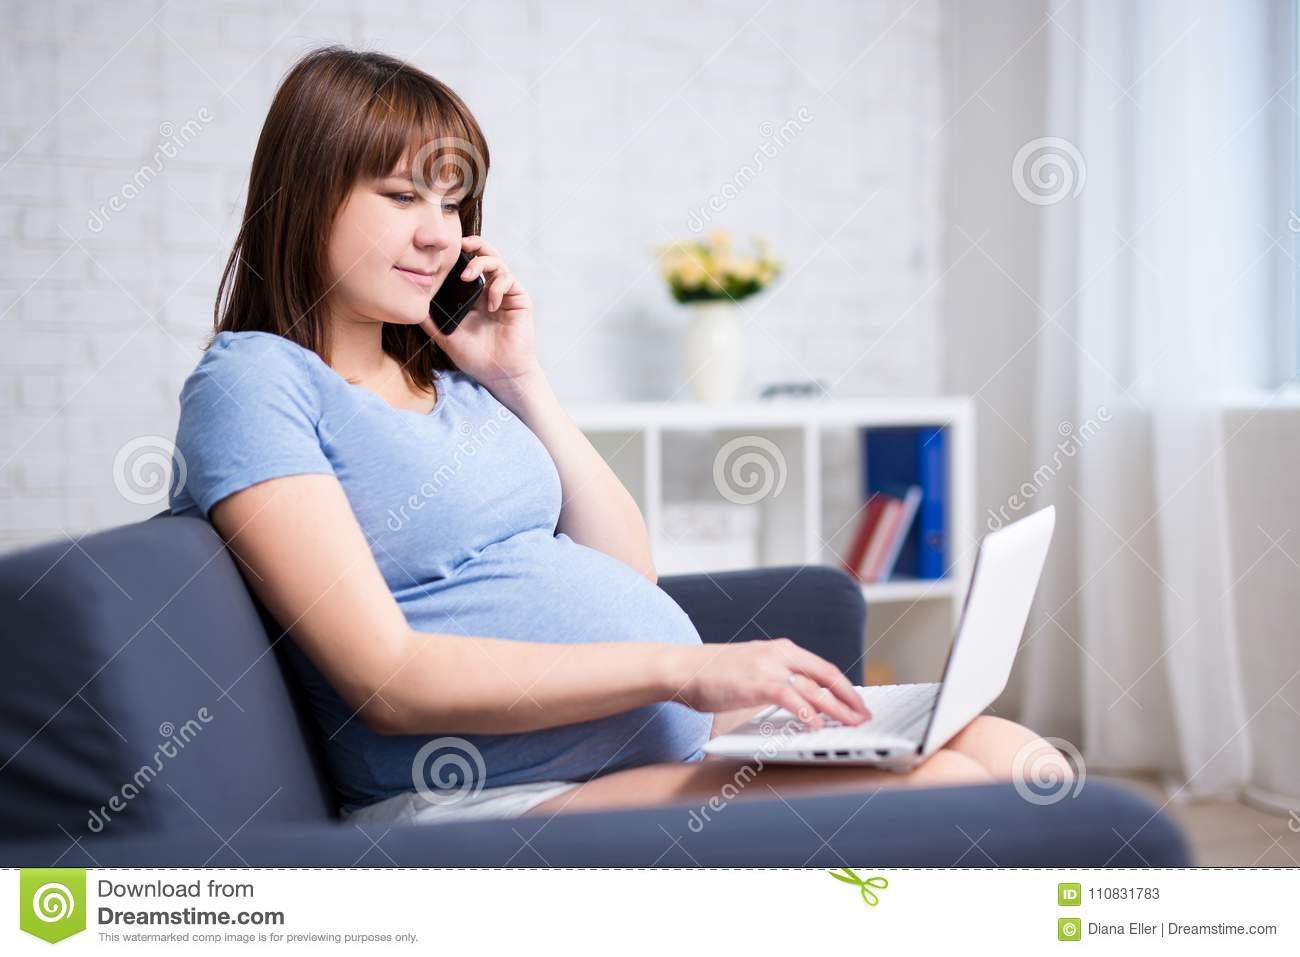phone: (428, 252, 486, 334)
talk: (363, 159, 532, 405)
